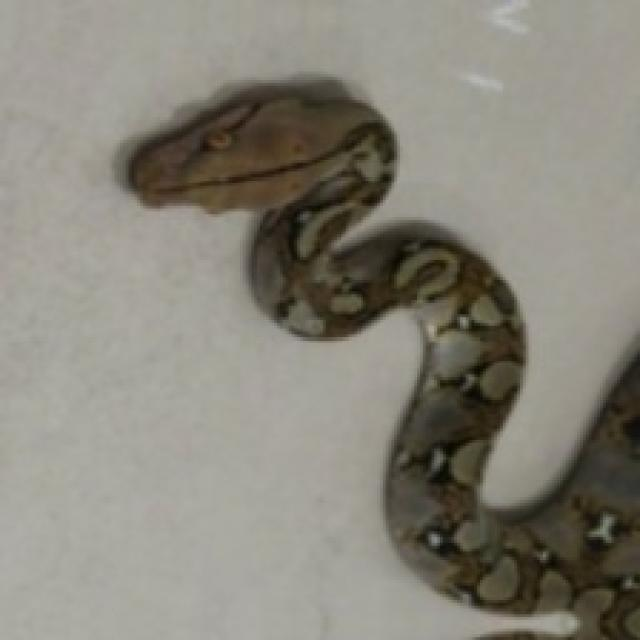reticulated python: (129, 80, 637, 637)
